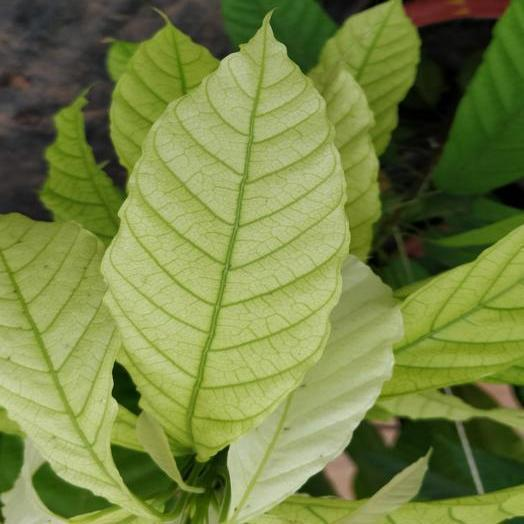Iron: (102, 17, 348, 461), (0, 214, 154, 517)
